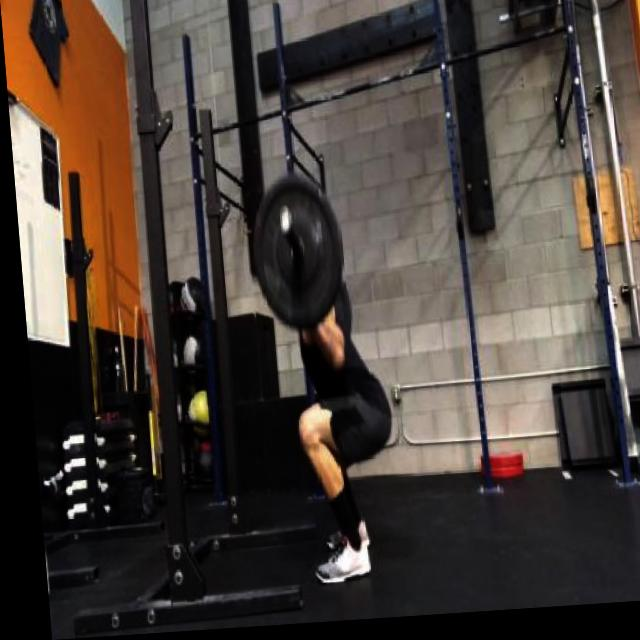barbell: (241, 175, 346, 340)
